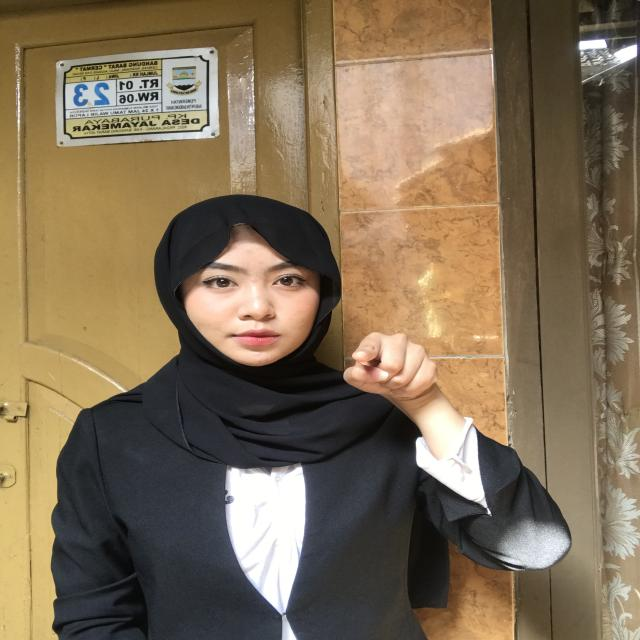kamu: (314, 317, 500, 442)
